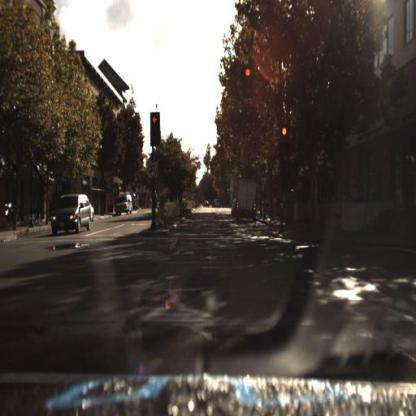car: (52, 193, 90, 231), (235, 176, 259, 225), (113, 193, 132, 218), (91, 201, 99, 227)
trafficLight: (246, 67, 251, 98)
trafficLight-Red: (282, 128, 289, 156)
trafficLight-RedLeft: (152, 112, 160, 143)
